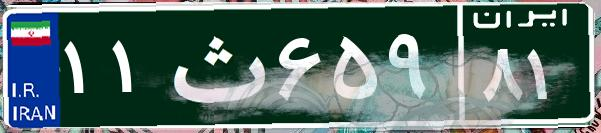1: (57, 26, 110, 107), (110, 28, 158, 105), (525, 38, 570, 115)
5: (330, 28, 385, 110)
6: (273, 28, 330, 110)
8: (475, 38, 525, 113)
9: (385, 28, 445, 110)
ث: (158, 15, 273, 115)
